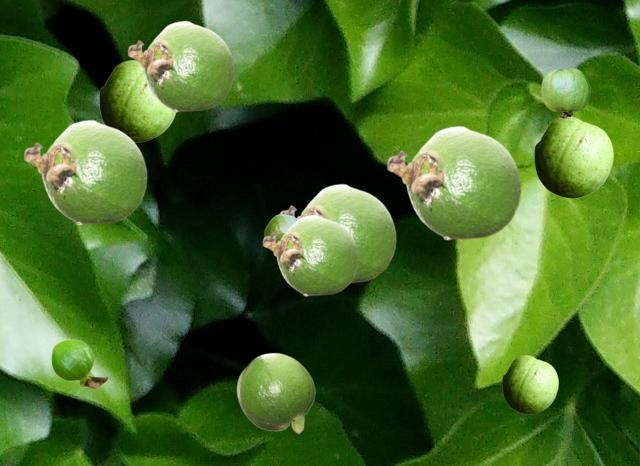guava: (386, 125, 521, 239), (23, 119, 147, 224), (279, 183, 396, 283), (127, 20, 234, 111), (262, 214, 358, 295), (534, 116, 612, 197), (236, 352, 314, 433), (99, 60, 176, 141), (502, 355, 557, 413), (51, 339, 107, 388), (541, 68, 589, 117), (264, 214, 296, 241)
